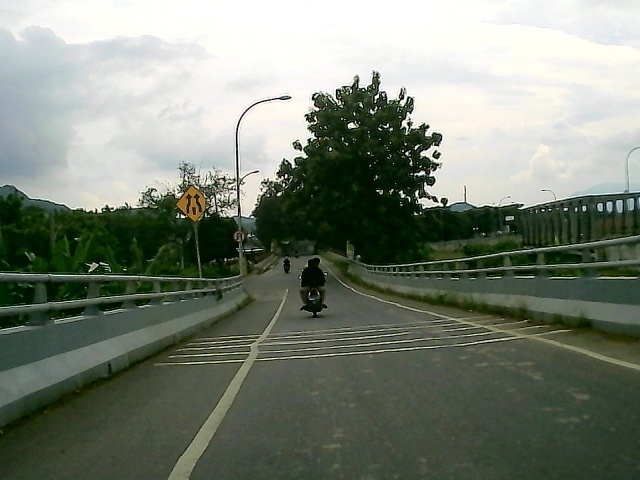Akhir bangunan pemisah satu arah: (171, 185, 213, 224)
Dilarang berbalik arah: (231, 229, 244, 245)
